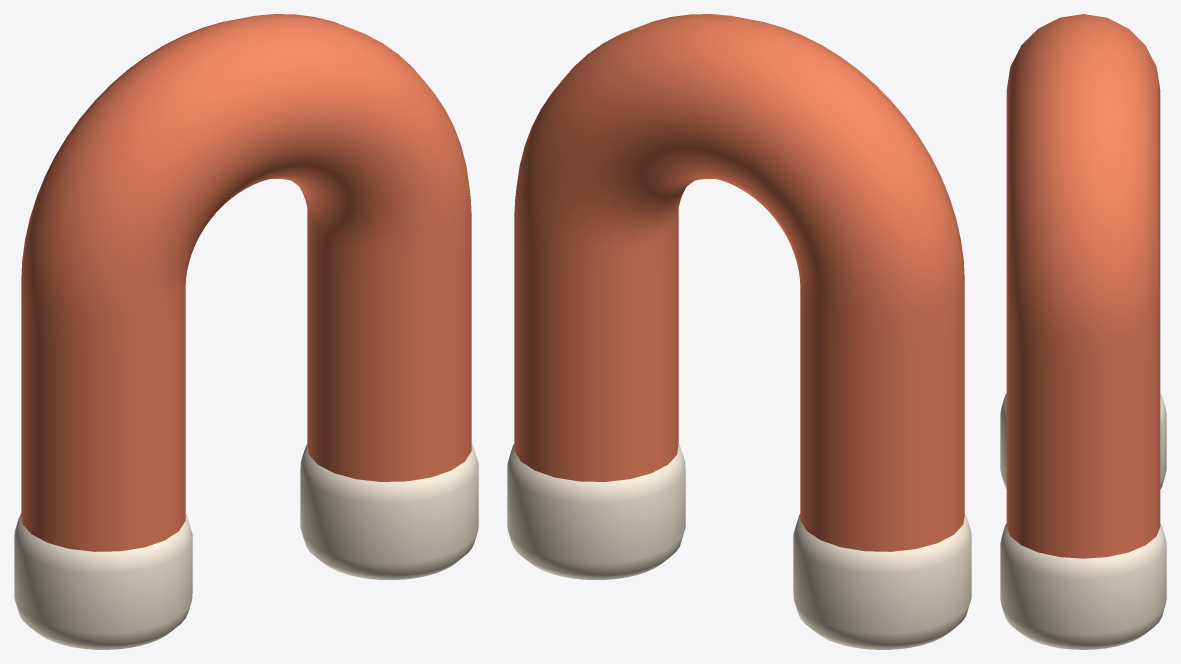
The model's file is magnet_candy.glb.
3 views of the same model, side by side, from view 1: azimuth 30°, elevation 25°; view 2: azimuth 150°, elevation 25°; view 3: azimuth 270°, elevation 25° (orthographic). The views are drawn at different scales.
Visible parts, largest first — view 1: magnet_candy; view 2: magnet_candy; view 3: magnet_candy.
Part boxes in pixels (x1,y1,x2,y2): magnet_candy: (14,14,478,649); magnet_candy: (507,14,971,649); magnet_candy: (1000,14,1166,649).
Size of the model in its own units: 0.5749 by 0.7 by 0.2016.
